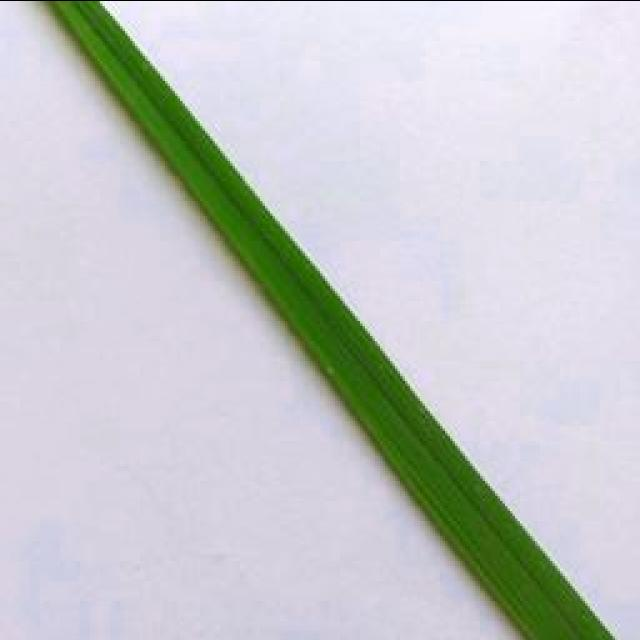Healthy: (52, 0, 621, 640)
